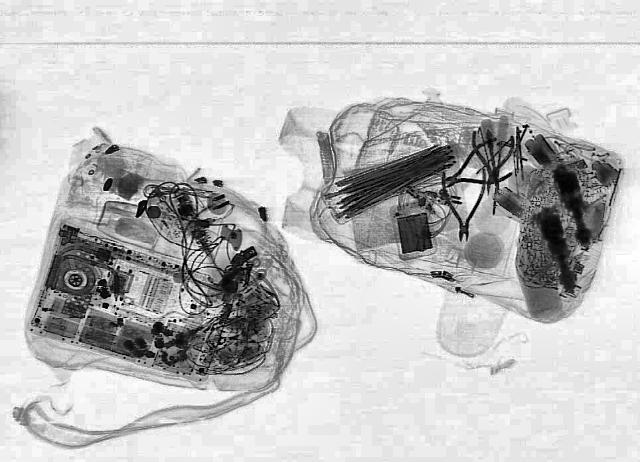Pliers: (423, 138, 525, 200), (463, 130, 519, 214), (439, 168, 487, 242)
